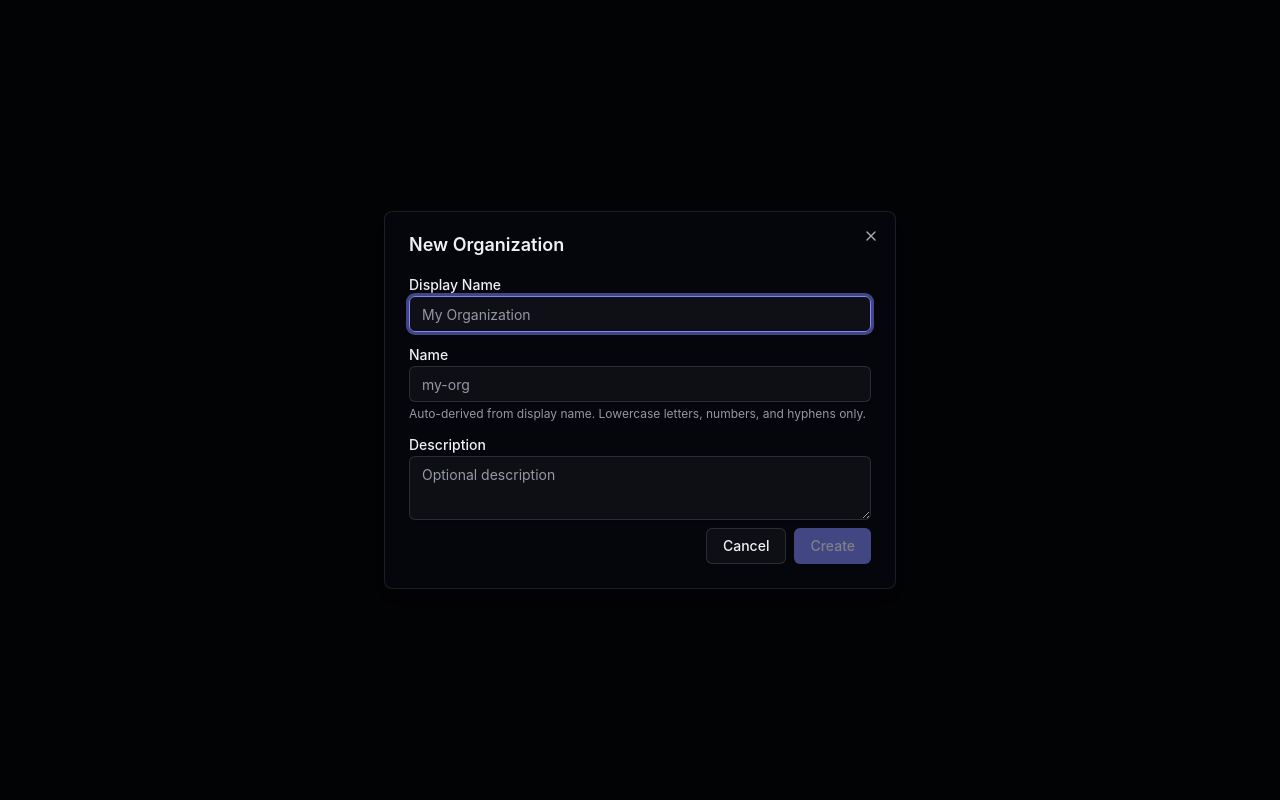
Test: CreateOrgDialog › re-enables auto-derivation when reset link is clicked
Type "Test Org" into the field with placeholder "My Organization" at (640, 314), box [409, 296, 871, 332]
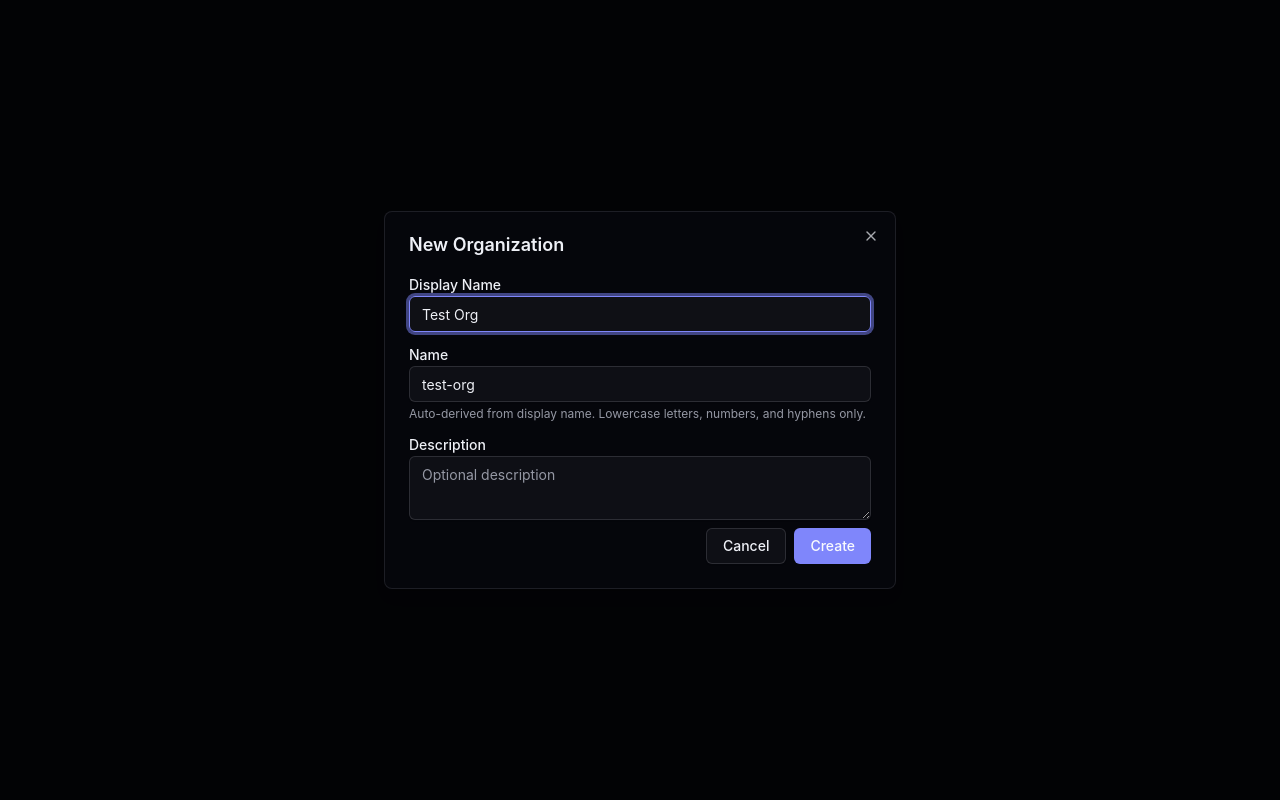
Replace the text in the field with placeholder "my-org" with "custom-slug" at (640, 384), box [409, 366, 871, 402]
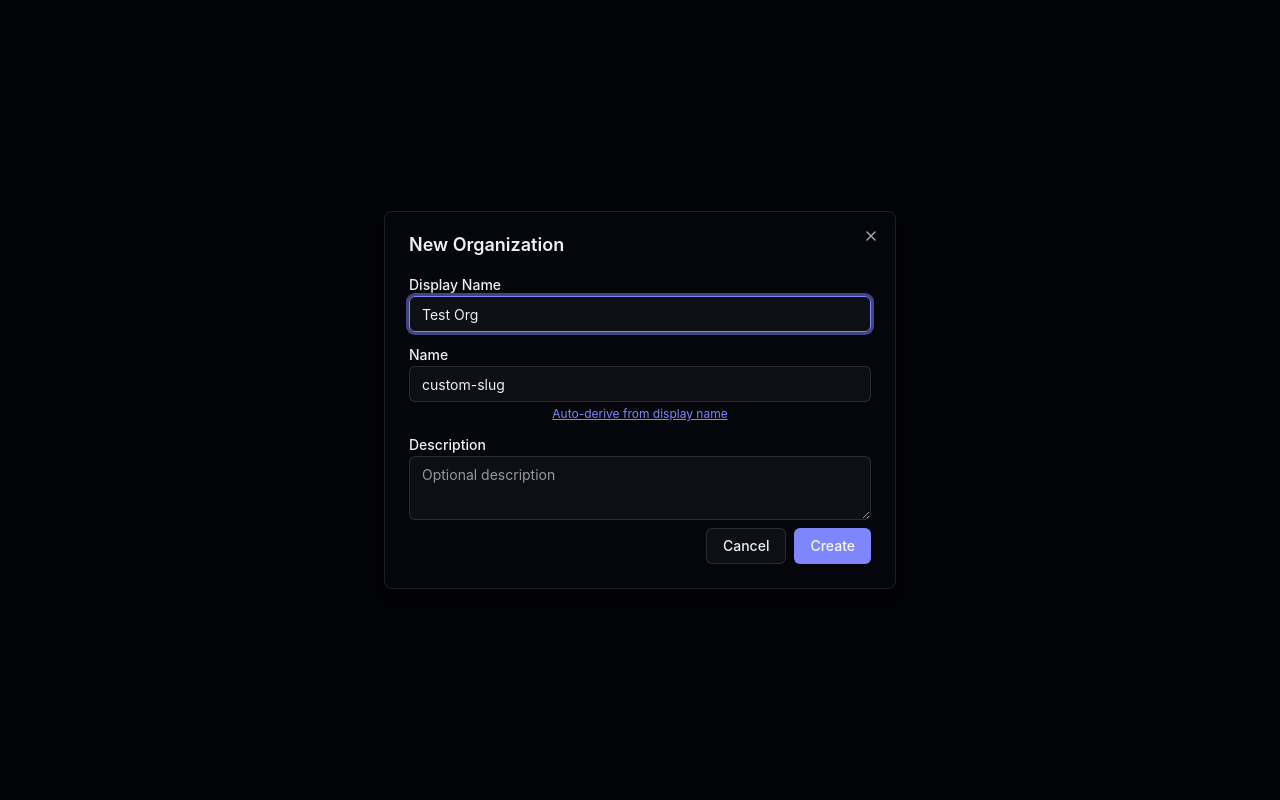
Click the button "Auto-derive from display name" at (640, 414), box [409, 406, 871, 422]
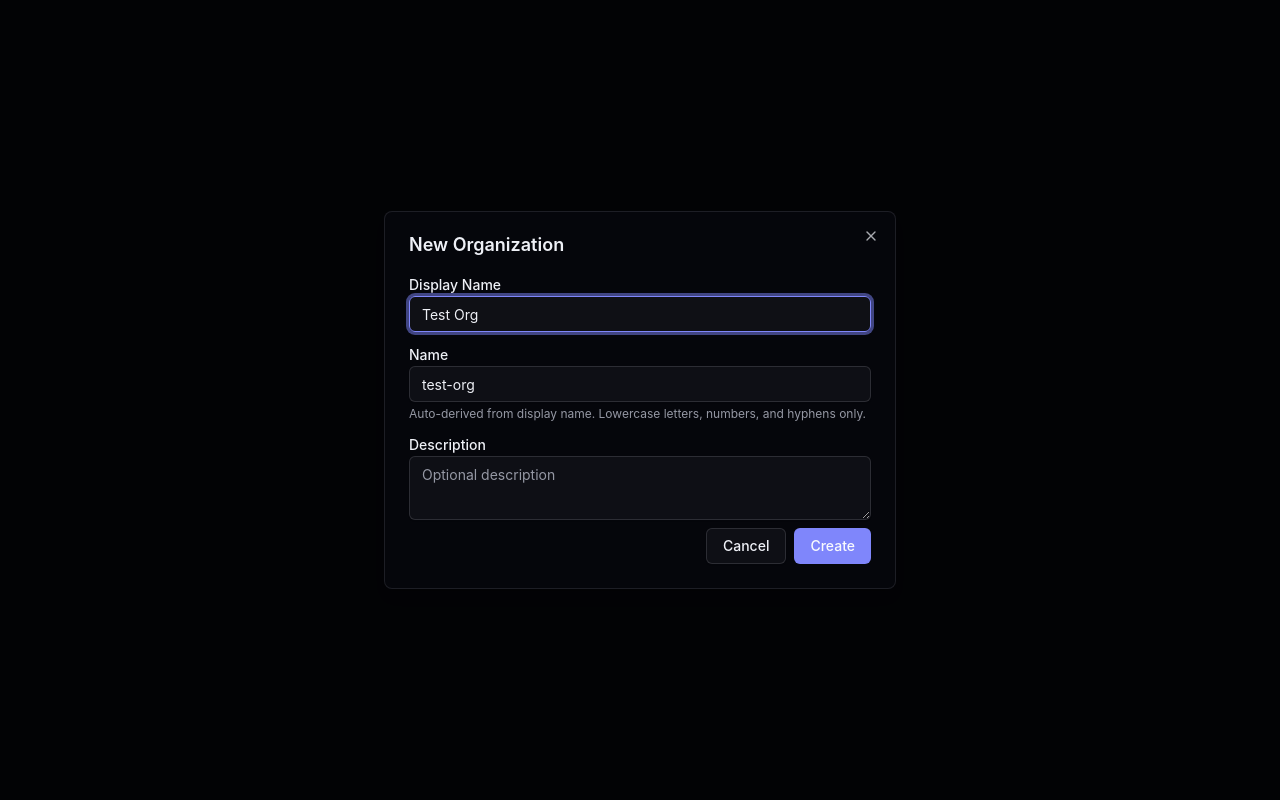
Expected: the field with placeholder "my-org" holds "test-org", [409, 366, 871, 402]
And further display name changes should update name again
Replace the text in the field with placeholder "My Organization" with "New Org" at (640, 314), box [409, 296, 871, 332]
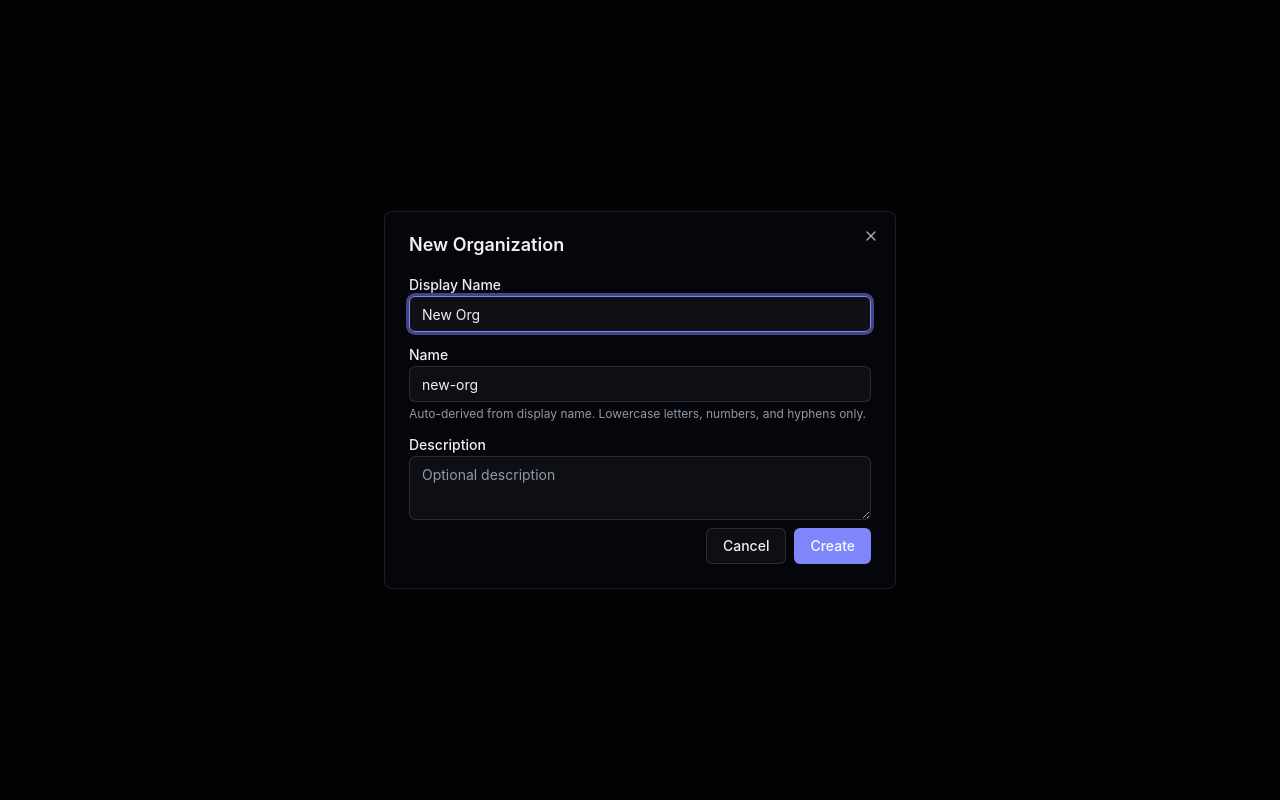
Expected: the field with placeholder "my-org" holds "new-org", [409, 366, 871, 402]
